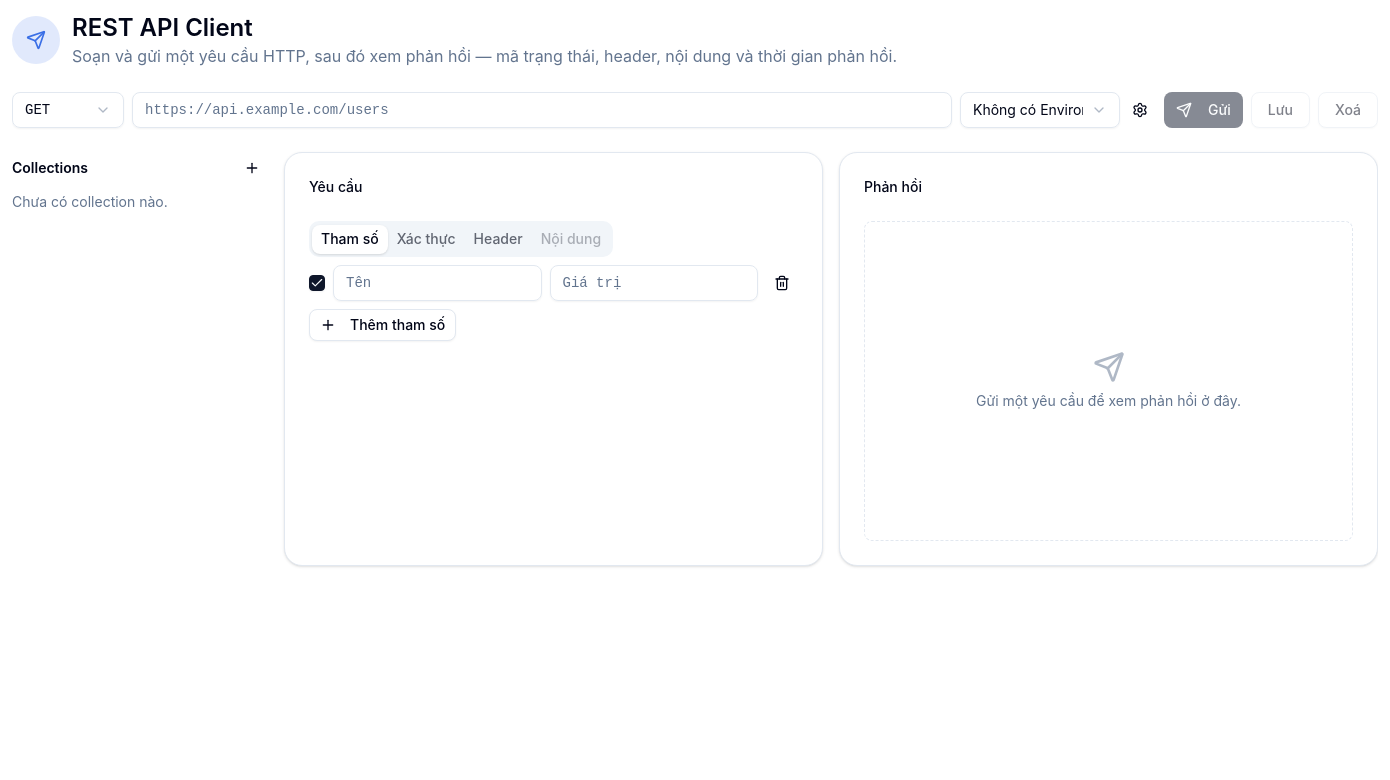
Scenario: RestApiClientScreen › shows a mapped error message when the request fails
This screenshot has width=1390, height=780.
Type "https://api.example.com" into the field named "URL yêu cầu".
click(542, 110); type("https://api.example.com")  # box [132,92,952,128]
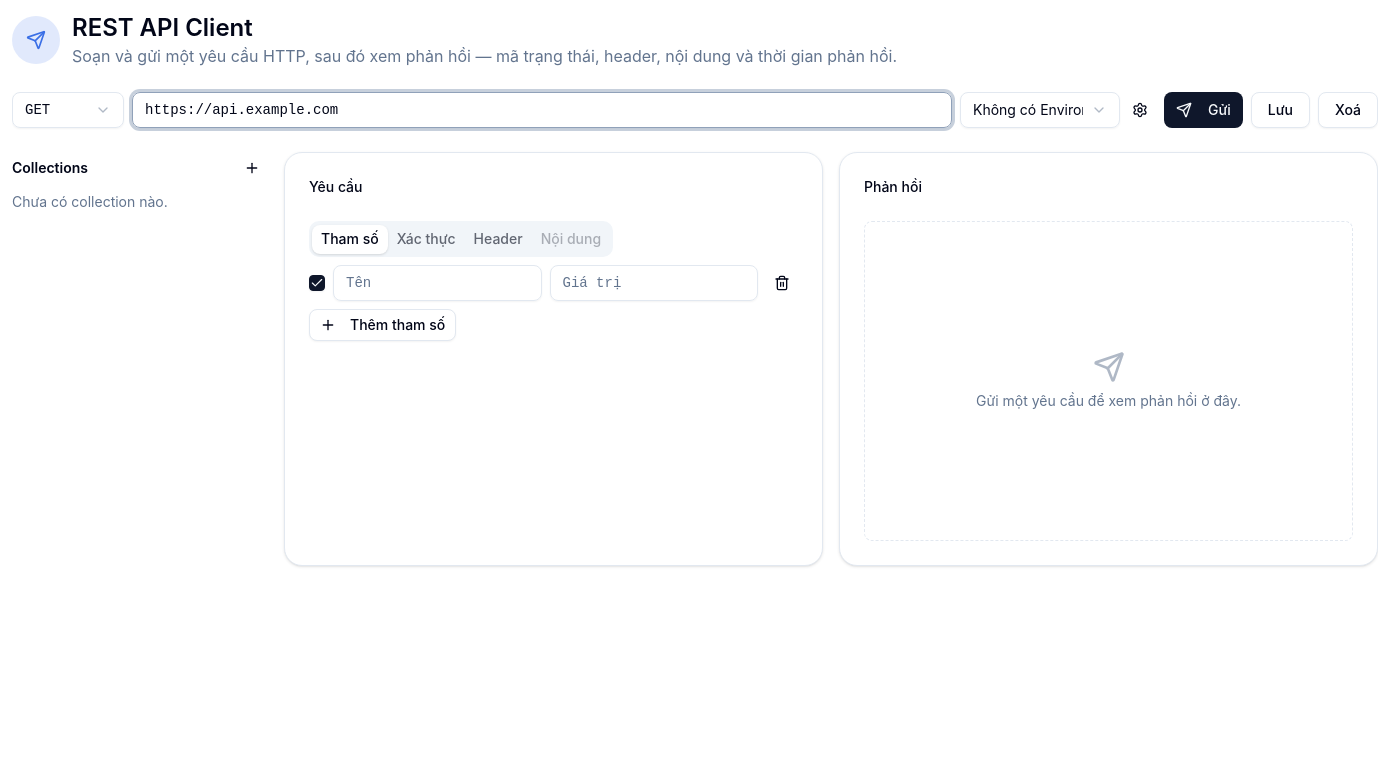
Click the button "Gửi".
click(1203, 110)  # box [1164,92,1243,128]
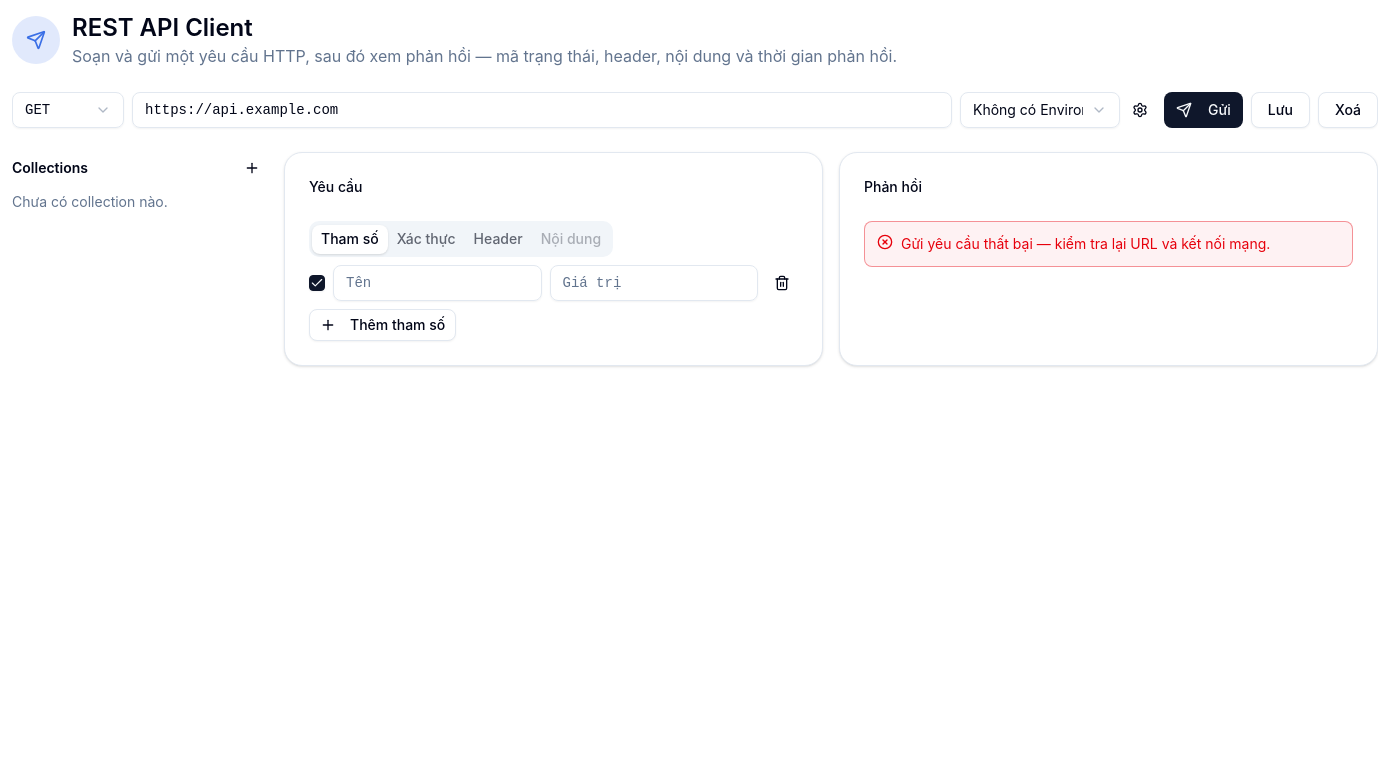
Expected: the text "Gửi yêu cầu thất bại — kiểm tra lại URL và kết nối mạng." is shown, [901,234,1270,254]
